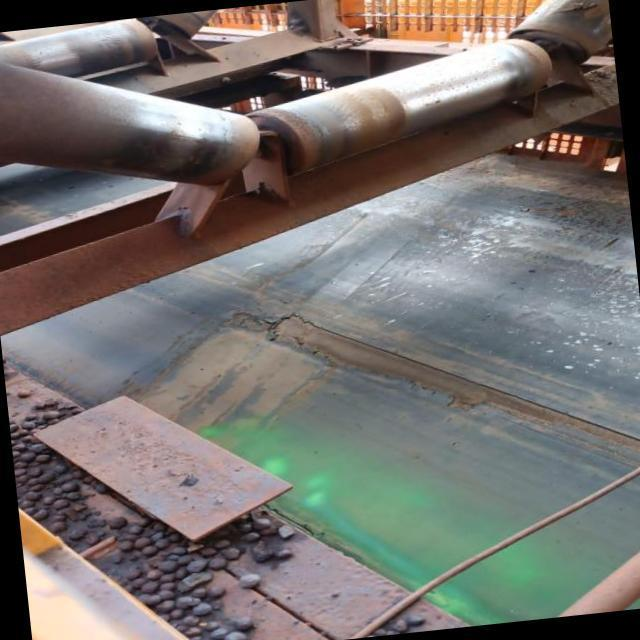Tear: (225, 303, 640, 461)
